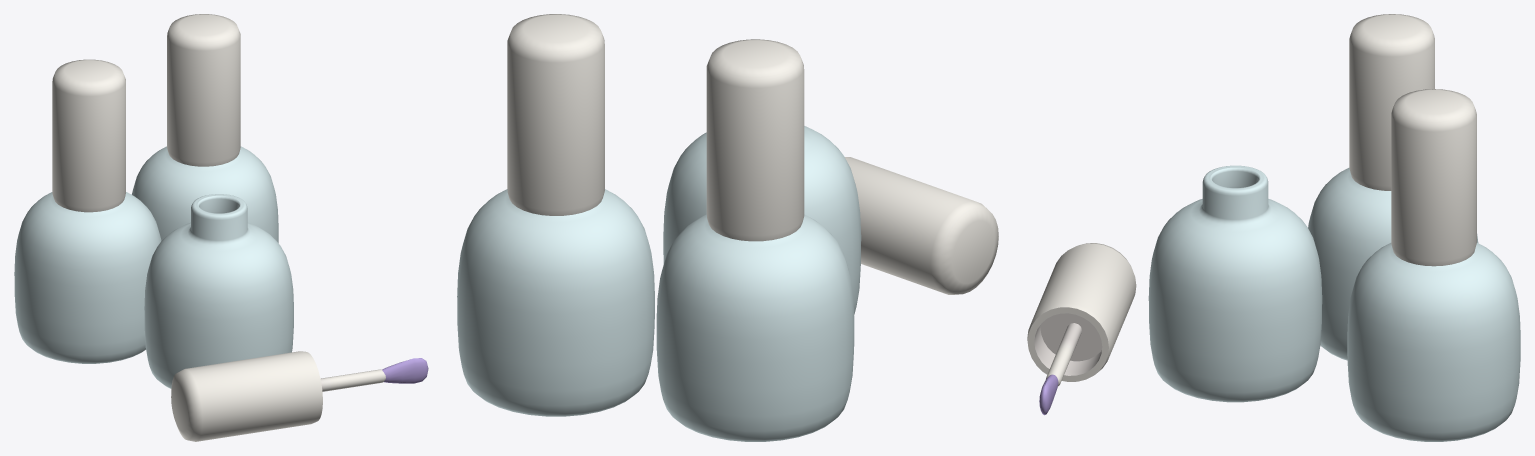
The model's file is nail-polish.glb.
3 renders of one model, left to right at view 1: azimuth 30°, elevation 25°; view 2: azimuth 150°, elevation 25°; view 3: azimuth 270°, elevation 25°, orthographic. The views are drawn at different scales.
Visible parts, largest first — view 1: nail-polish_glass, nail-polish_cap_c, nail-polish_cap_a, nail-polish_cap_b; view 2: nail-polish_glass, nail-polish_cap_a, nail-polish_cap_b, nail-polish_cap_c; view 3: nail-polish_glass, nail-polish_cap_b, nail-polish_cap_c, nail-polish_cap_a.
Boxes of the visible parts, x1=… form: nail-polish_glass: x1=14, y1=146, x2=293, y2=388; nail-polish_cap_c: x1=171, y1=351, x2=428, y2=441; nail-polish_cap_a: x1=52, y1=59, x2=125, y2=212; nail-polish_cap_b: x1=167, y1=14, x2=240, y2=166; nail-polish_glass: x1=457, y1=126, x2=861, y2=441; nail-polish_cap_a: x1=706, y1=39, x2=804, y2=241; nail-polish_cap_b: x1=507, y1=14, x2=604, y2=215; nail-polish_cap_c: x1=845, y1=157, x2=998, y2=294; nail-polish_glass: x1=1148, y1=165, x2=1520, y2=441; nail-polish_cap_b: x1=1391, y1=89, x2=1476, y2=266; nail-polish_cap_c: x1=1027, y1=243, x2=1136, y2=415; nail-polish_cap_a: x1=1349, y1=14, x2=1434, y2=190.
Size of the model in its own units: 0.067 by 0.0655 by 0.0945.
7 materials, 3 textured.
